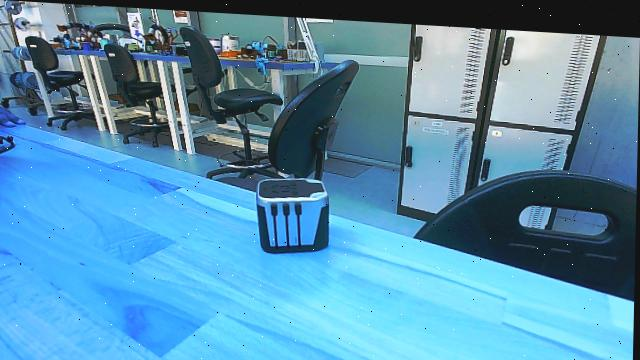adapter: (251, 169, 342, 259)
